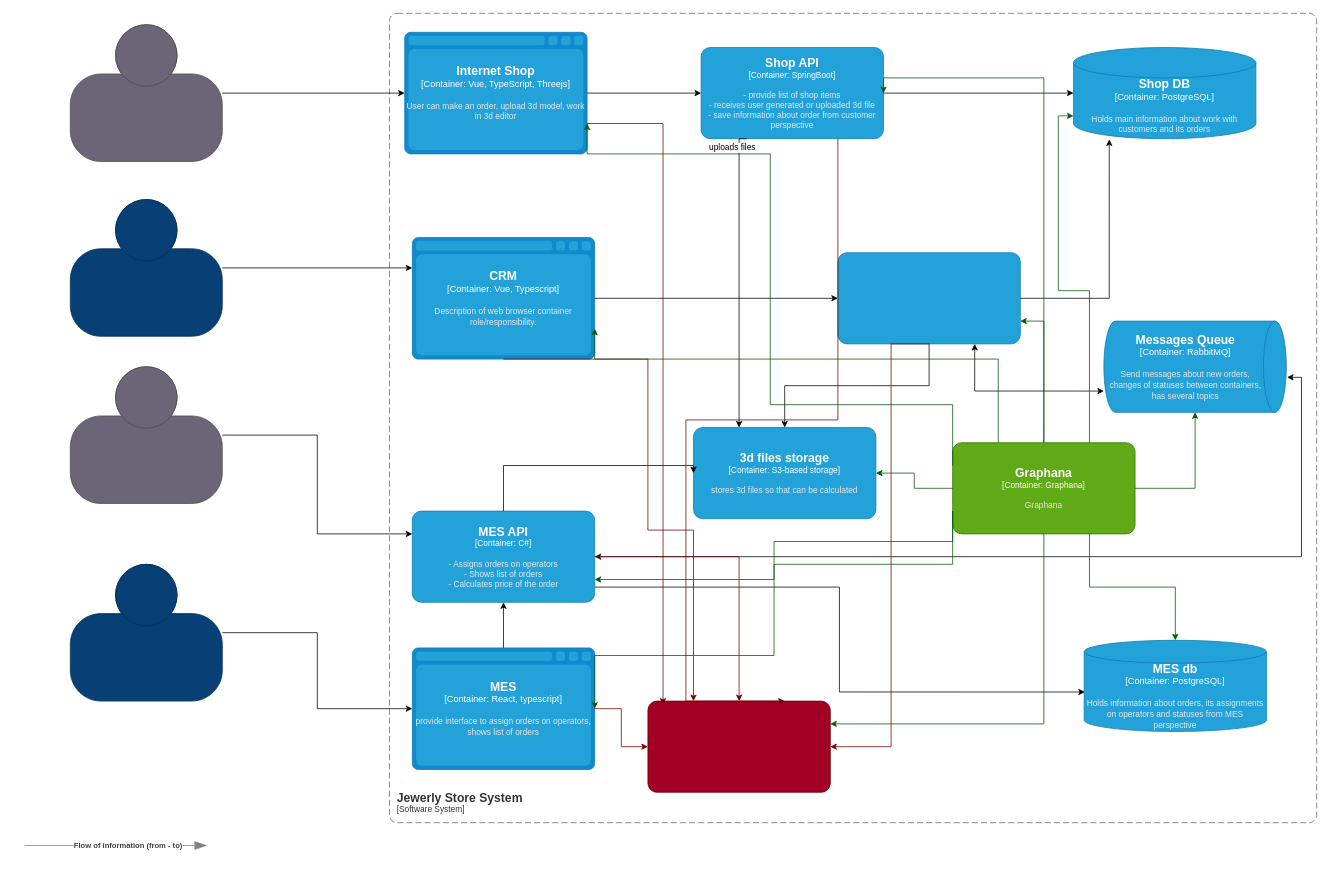
The diagram is 1330 pixels wide and 871 high, and some of its shapes have lost their labels. Here are the shapes that lost their labels. From the top down, the box of each, then its label:
(70, 24, 222, 162): Customer [Person] Description of external person.
(70, 199, 222, 336): Seller [Person] Operates with order, confirms manufacturing for the user
(837, 252, 1020, 344): CRM API [Container: SpringBoot] Description of container role/responsibility.
(70, 366, 222, 504): API user [Person] Description of external person.
(70, 564, 222, 701): Operator [Person] Takes order in work, manufactures jewerly
(647, 700, 830, 792): logs storage [Container: logs storage] ClickHouse
